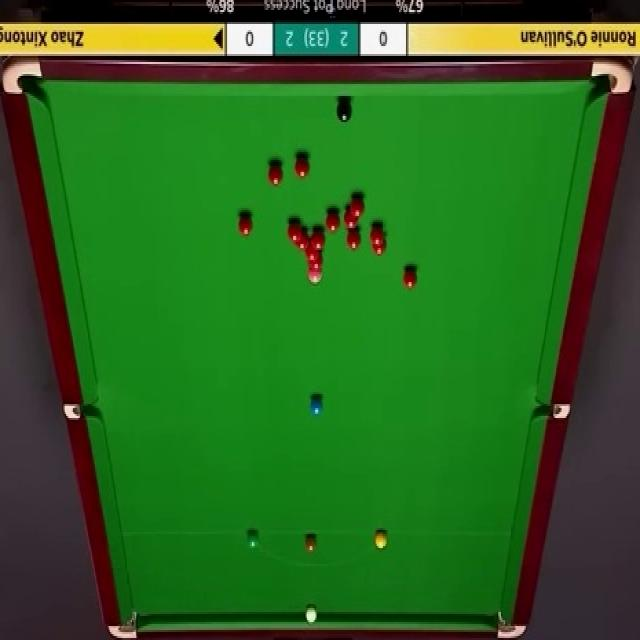black-ball: (336, 102, 354, 125)
blue-ball: (310, 398, 324, 415)
brown-ball: (305, 534, 316, 552)
green-ball: (245, 530, 260, 552)
pink-ball: (306, 270, 322, 284)
red-ball: (238, 213, 254, 240), (403, 266, 419, 290), (310, 228, 326, 251), (324, 212, 340, 235), (287, 222, 303, 244), (349, 196, 365, 218), (296, 159, 310, 183), (270, 166, 284, 187), (370, 224, 384, 245), (348, 230, 361, 252), (343, 208, 358, 227), (296, 234, 310, 254), (372, 236, 386, 256), (306, 244, 320, 262)
white-ball: (304, 605, 317, 625)
yellow-ball: (375, 530, 387, 550)
